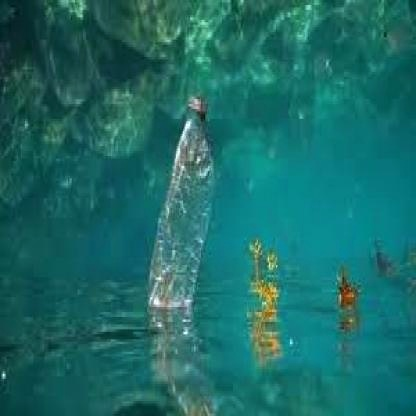pbottle: (136, 87, 225, 322)
